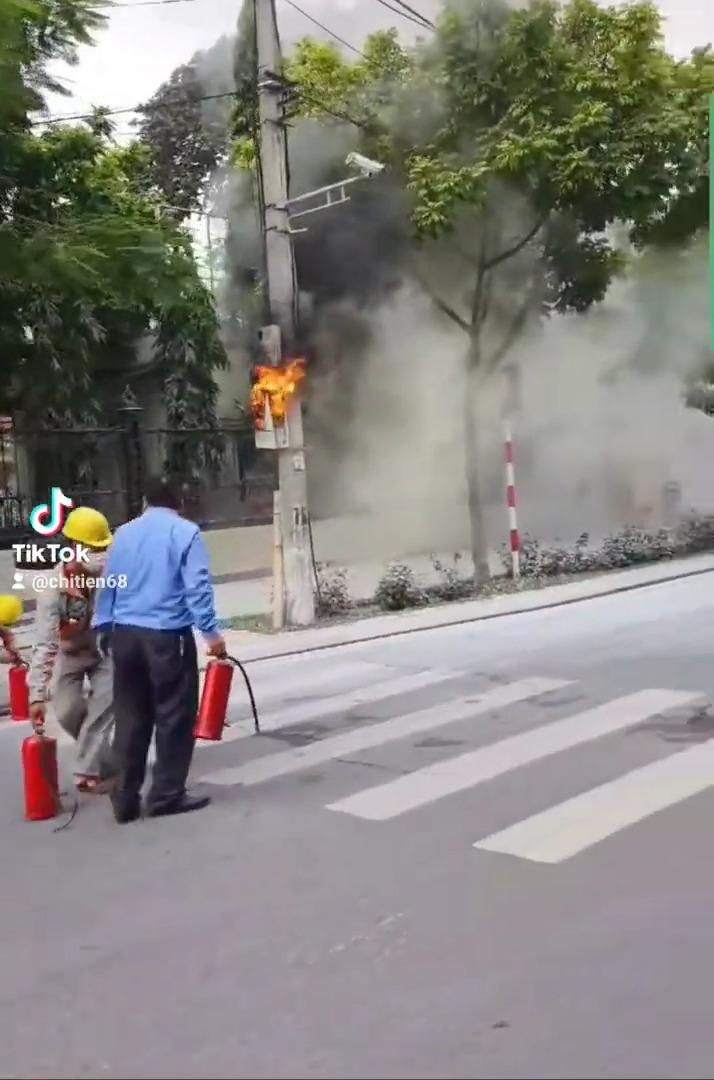FireExtinguisher: (13, 718, 75, 829), (190, 653, 248, 754), (3, 648, 42, 722)
not: (491, 423, 537, 575), (228, 363, 318, 436)
